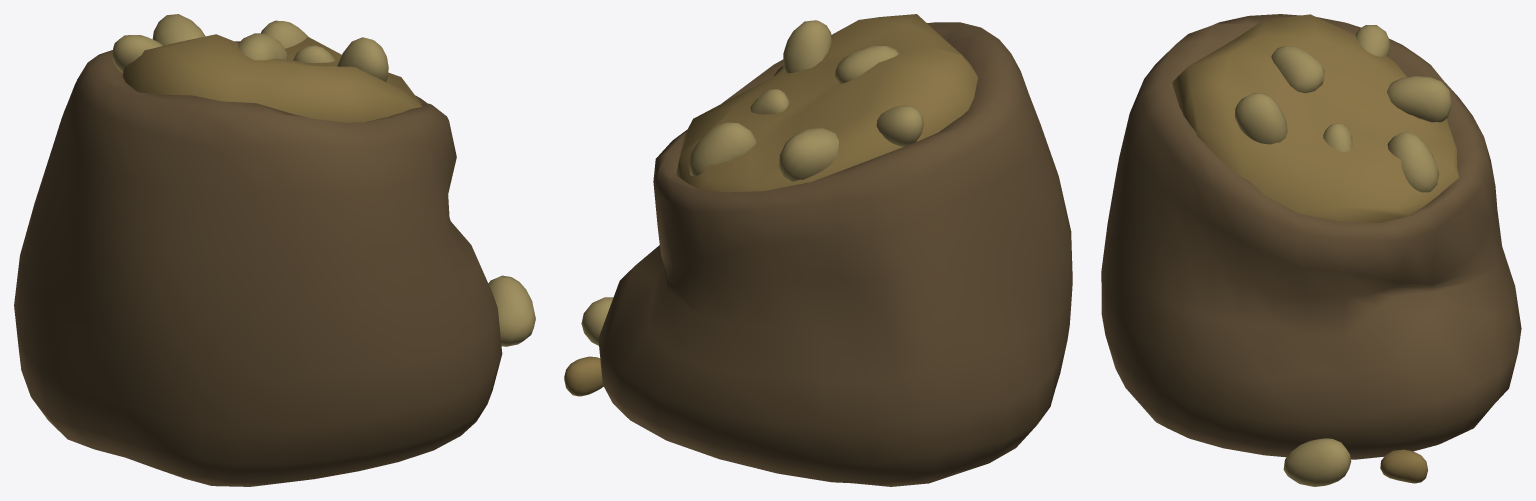
File: Potato_Sack.fbx
3 views of the same model, side by side, from view 1: azimuth 30°, elevation 25°; view 2: azimuth 150°, elevation 25°; view 3: azimuth 270°, elevation 25° (orthographic). The views are drawn at different scales.
Parts seen in each view (by area): view 1: Cube, Cube.001, Roundcube.003, Roundcube.006; view 2: Cube, Cube.001, Roundcube.003, Roundcube.007, Roundcube.006; view 3: Cube, Cube.001, Roundcube.003, Roundcube.006, Roundcube.007.
Boxes of the visible parts, x1=… form: Cube: x1=14, y1=41, x2=502, y2=486; Cube.001: x1=122, y1=34, x2=422, y2=122; Roundcube.003: x1=112, y1=14, x2=388, y2=81; Roundcube.006: x1=488, y1=275, x2=535, y2=346; Cube: x1=598, y1=22, x2=1072, y2=486; Cube.001: x1=675, y1=14, x2=977, y2=192; Roundcube.003: x1=688, y1=20, x2=923, y2=181; Roundcube.007: x1=564, y1=356, x2=603, y2=396; Roundcube.006: x1=581, y1=297, x2=613, y2=345; Cube: x1=1101, y1=14, x2=1521, y2=459; Cube.001: x1=1172, y1=14, x2=1458, y2=222; Roundcube.003: x1=1235, y1=25, x2=1451, y2=192; Roundcube.006: x1=1283, y1=438, x2=1351, y2=486; Roundcube.007: x1=1380, y1=449, x2=1427, y2=483.
Size of the model in its own units: 83.02 by 64.84 by 72.17.
